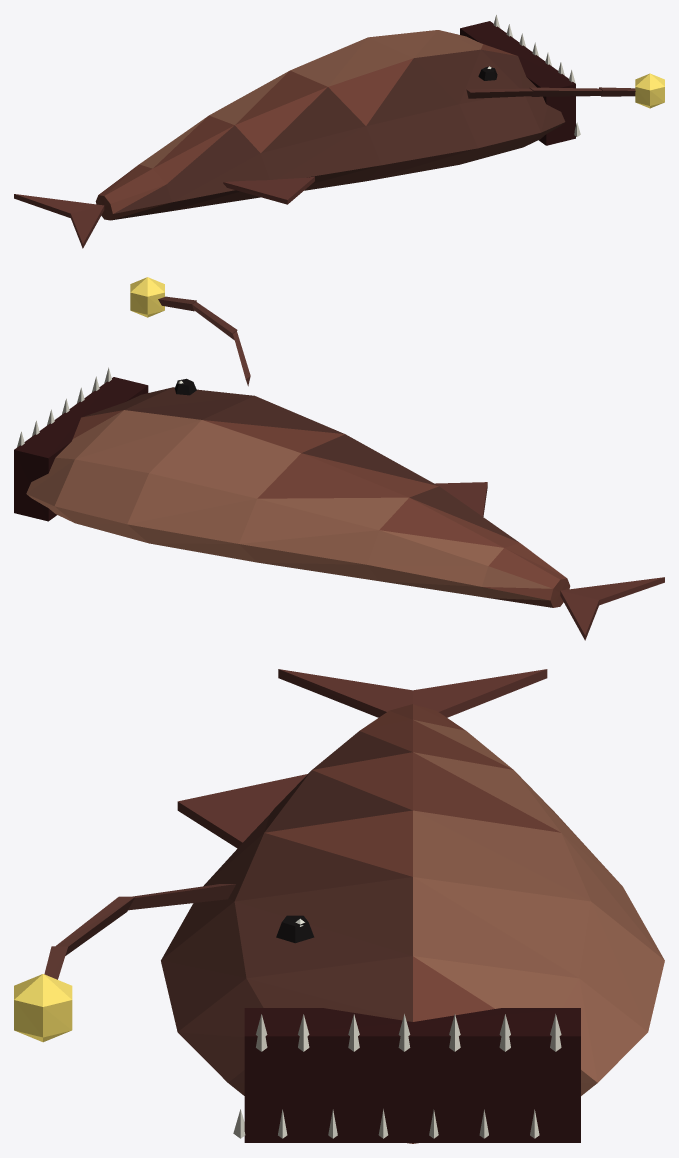
File: raw-anglerfish.obj
The picture shows the model from 3 angles, top to bottom: view 1: azimuth 30°, elevation 25°; view 2: azimuth 150°, elevation 25°; view 3: azimuth 270°, elevation 25°; orthographic projection. The views are drawn at different scales.
Parts seen in each view (by area): view 1: main; view 2: main; view 3: main.
Boxes of the visible parts, x1,y1,x2,y2 form: main: [14, 14, 664, 248]; main: [14, 277, 664, 640]; main: [14, 669, 664, 1143].
Bounding box in the file's own units: 140 × 27 × 77.46.
